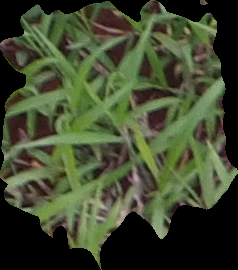grass: (1, 1, 237, 269)
